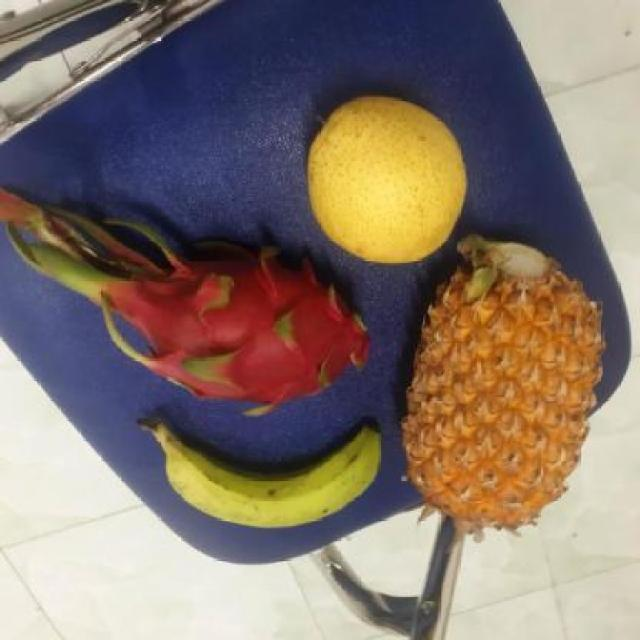banana: (153, 410, 396, 524)
dragon fruit: (113, 238, 385, 413)
pear: (305, 95, 474, 261)
pineapple: (406, 240, 603, 518)
